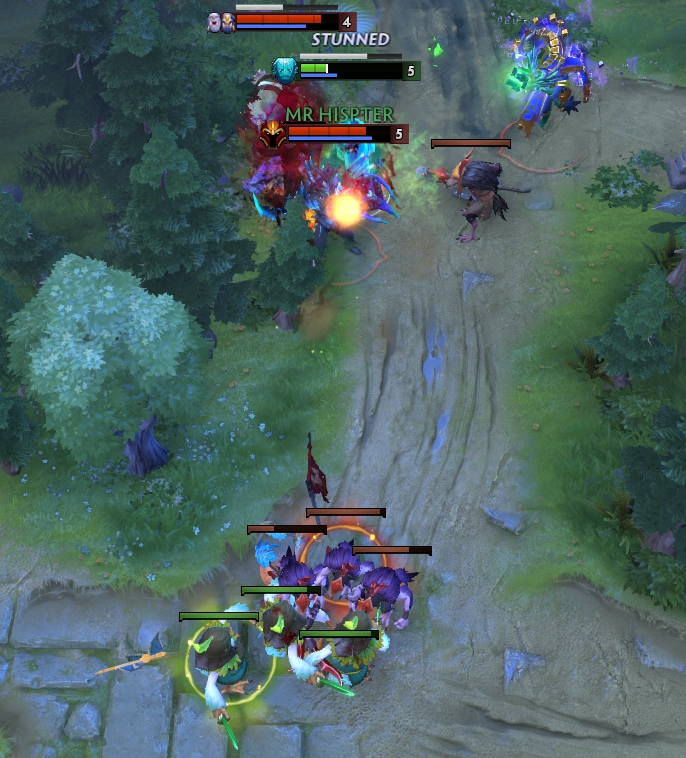allyCreep: (176, 605, 268, 625), (237, 580, 322, 598), (292, 624, 378, 640)
enemyCreep: (422, 130, 525, 154), (346, 538, 443, 561), (304, 499, 389, 520), (238, 523, 339, 537)
